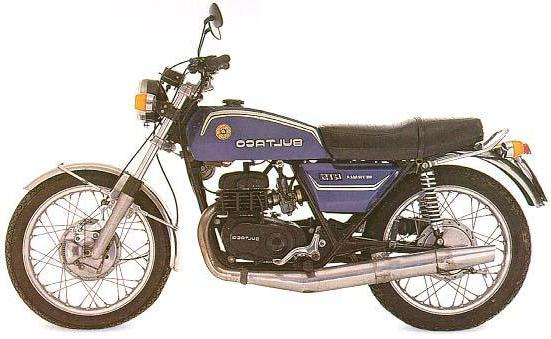motorcycle: (2, 1, 551, 334)
